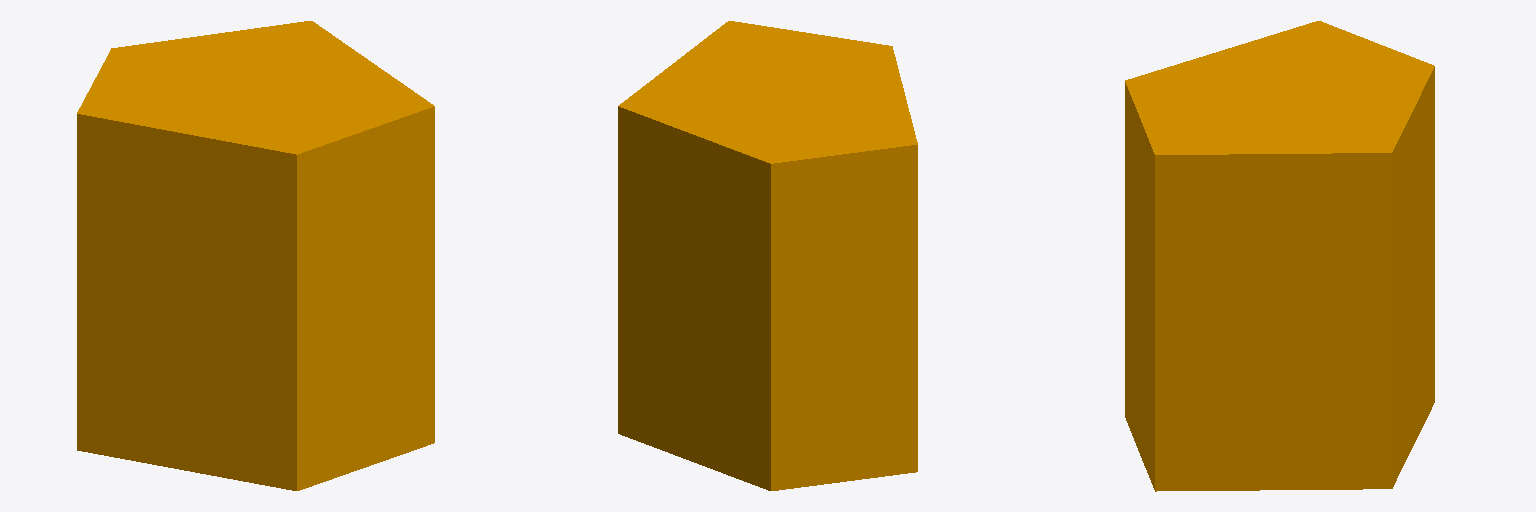
robot.urdf — object:
<?xml version="1.0"?>
<robot name="object">
  <link name="object">
    <visual>
      <origin xyz="0 0 0"/>
      <geometry>
        <mesh filename="meshes/generated/col_079.obj" scale="0.03 0.03 0.03"/>
      </geometry>
    </visual>
    <collision>
      <origin xyz="0 0 0"/>
      <geometry>
        <mesh filename="meshes/generated/col_079.obj" scale="0.03 0.03 0.03"/>
      </geometry>
    </collision>
    <inertial>
      <density value="1000.0"/>
    </inertial>
  </link>
</robot>

--- What the picture shows (computed from the rendered views, not written in the file) ---
Views: 3 orthographic renders of the robot side by side, from view 1: azimuth 30°, elevation 25°; view 2: azimuth 150°, elevation 25°; view 3: azimuth 270°, elevation 25°.
Robot: object — 1 links, 0 joints (none); root link object; default pose: all joints at 0.
Links seen in each view (by area): view 1: object; view 2: object; view 3: object.
Link boxes in pixels (bbox=[...]): object: bbox=[77, 21, 434, 490]; object: bbox=[618, 21, 917, 490]; object: bbox=[1125, 21, 1434, 491].
Size in the robot's own frame: 0.0516 by 0.0502 by 0.06 metres.
Meshes: 1 distinct files referenced, 1 mesh visuals loaded (1 OBJ).
